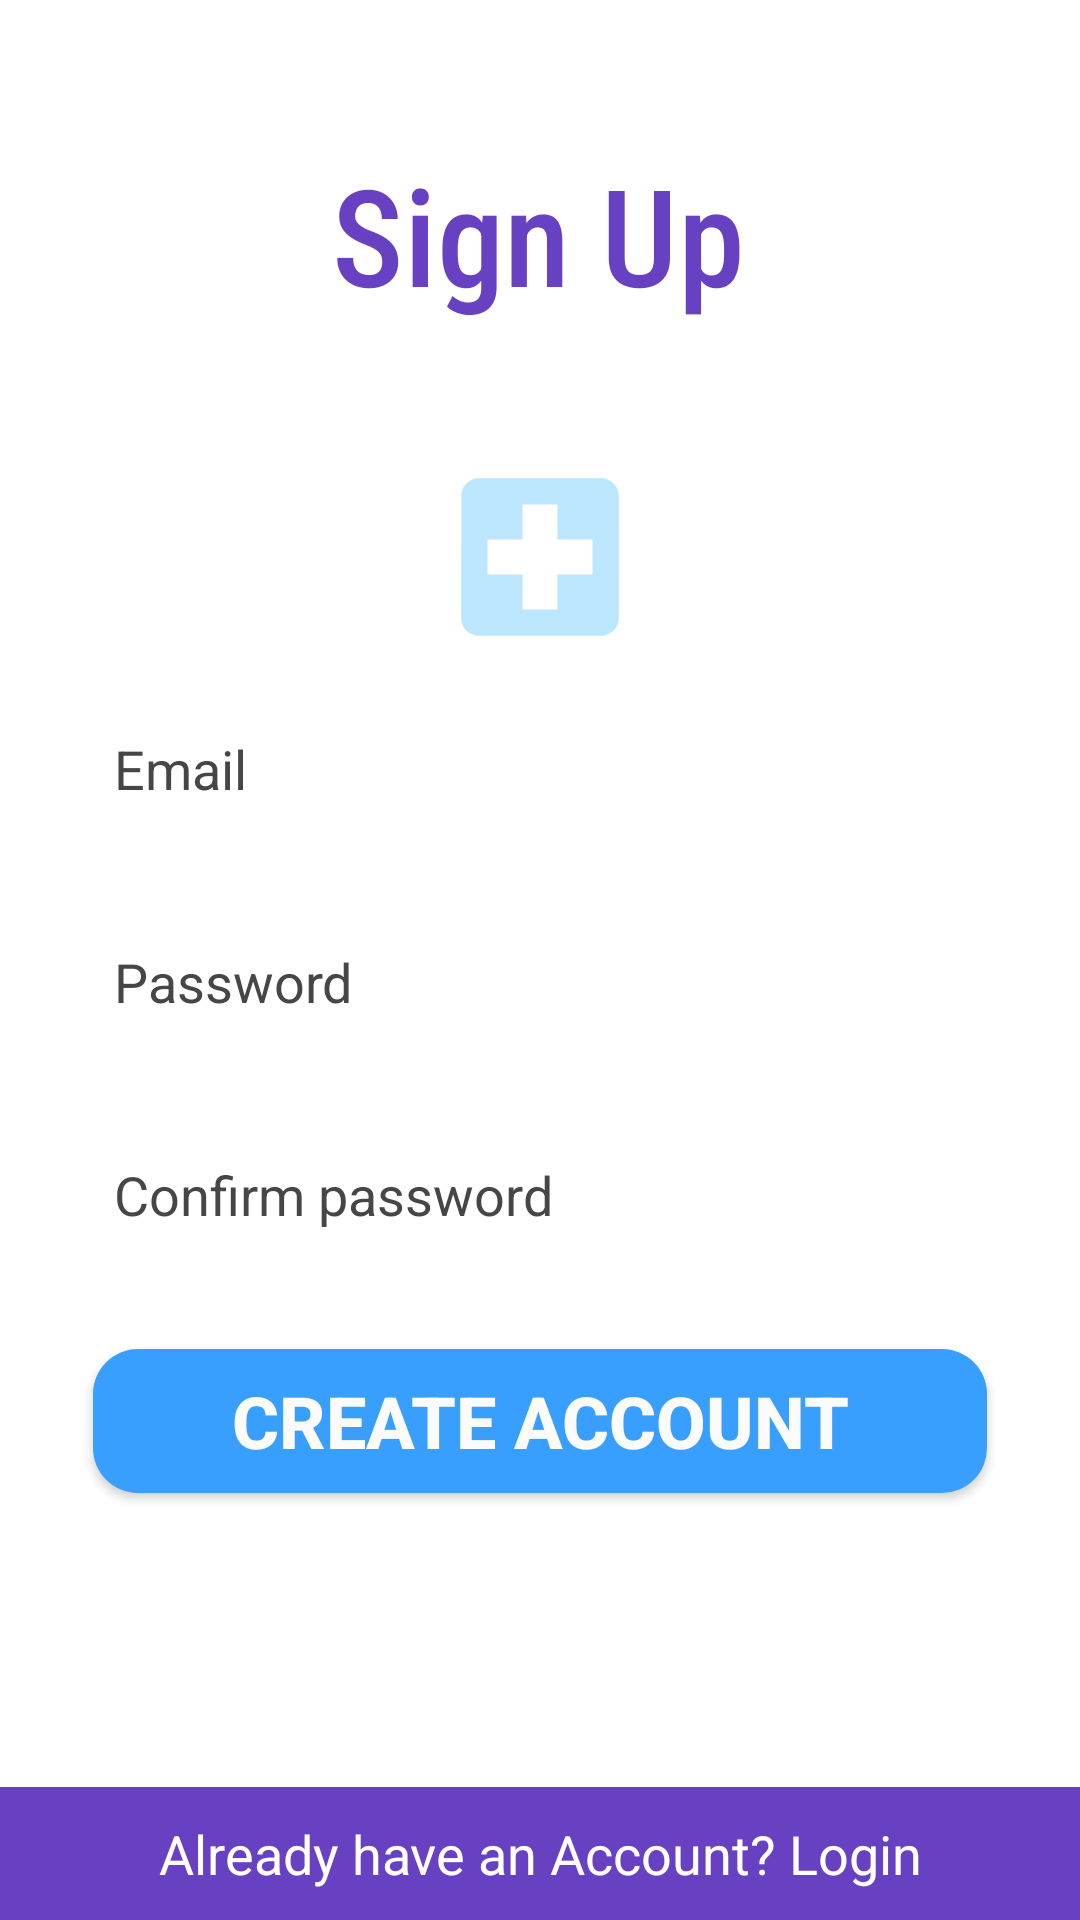

Locate icon controls on the screen. Image size 1080w x 1920h, boxes as (left=x1, top=y1, right=x2, bottom=y2).
local hospital: (left=461, top=478, right=619, bottom=636)
